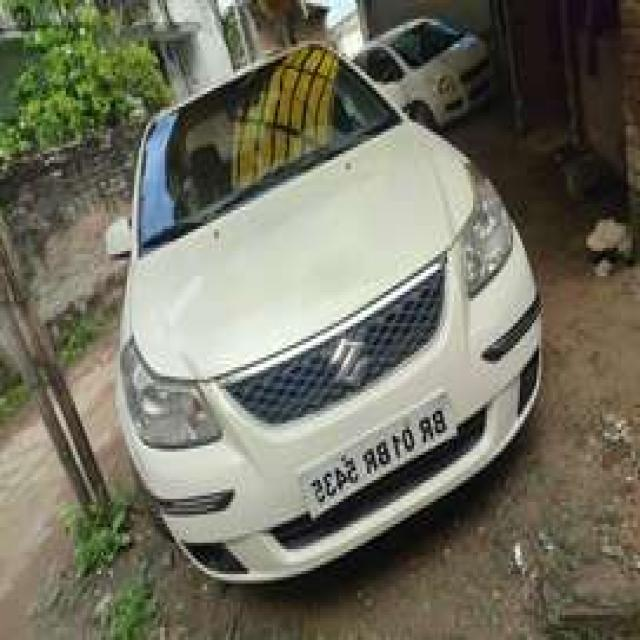license_plate: (297, 387, 461, 521)
